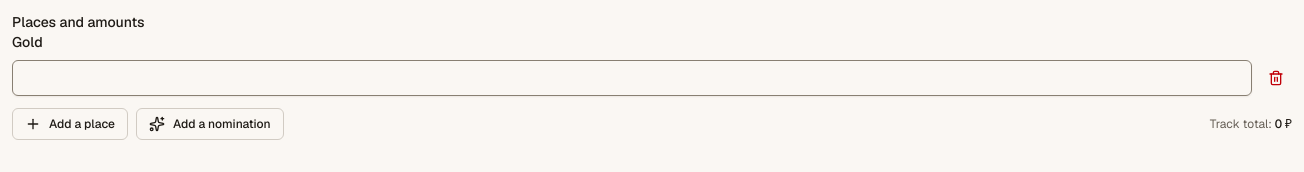
the field itself refuses a fractional amount as it is typed › a typed dot never reaches the value, and digits are grouped as they are typed
Step 1. Type "1500.50" into the field labelled "Gold" → (632, 78), box [12,60,1252,96]
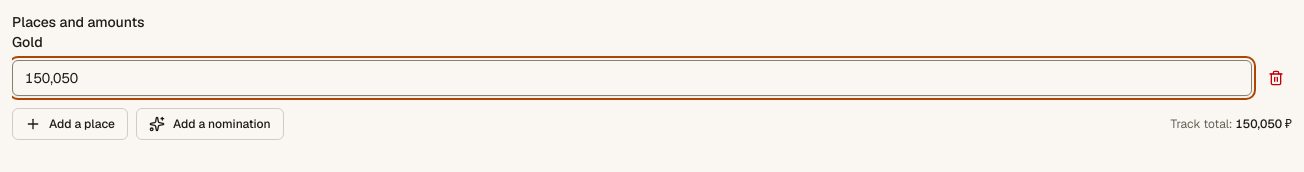
Check: the field labelled "Gold" holds "150,050", box [12,60,1252,96]
